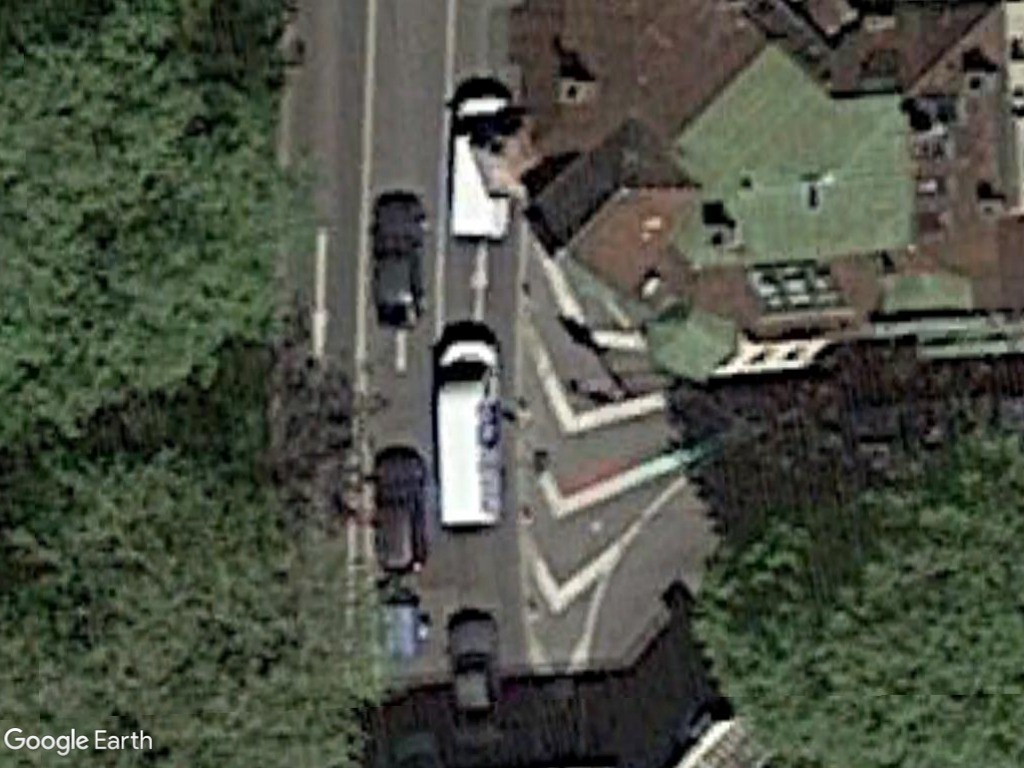car: (368, 187, 430, 336)
van: (435, 330, 509, 532)
